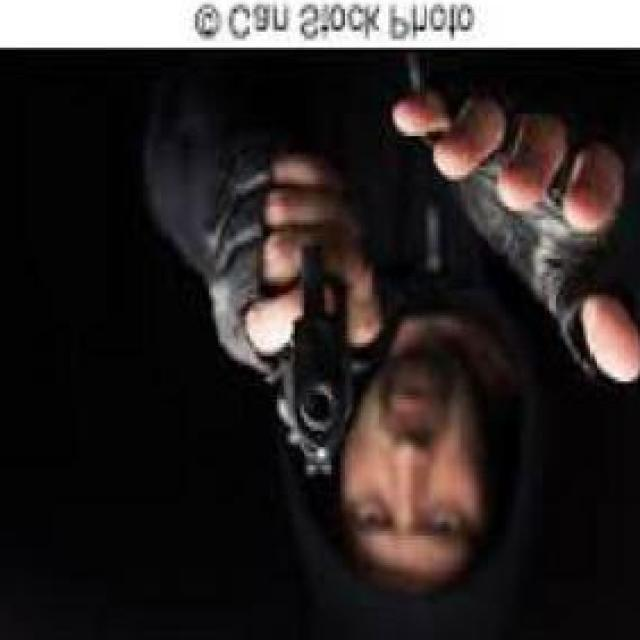pistol: (275, 246, 363, 488)
